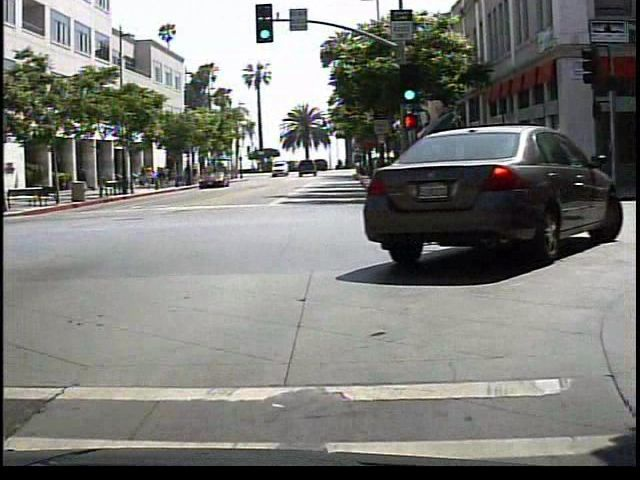person: (73, 161, 90, 192)
